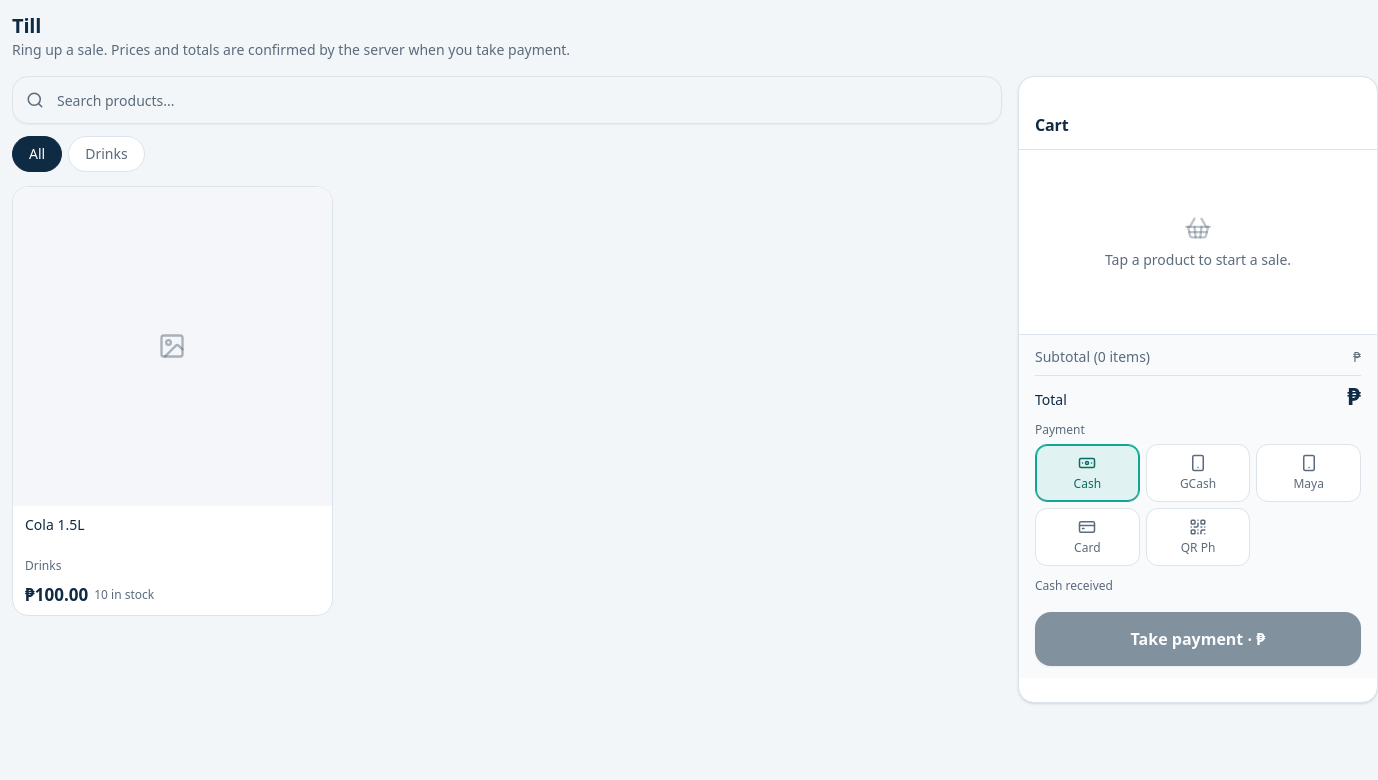
Test: online payments › asks for neither a reference nor cash received
Step 1. Click the button with aria-label "Add Cola 1.5L" → click(172, 401), box [12, 186, 333, 616]
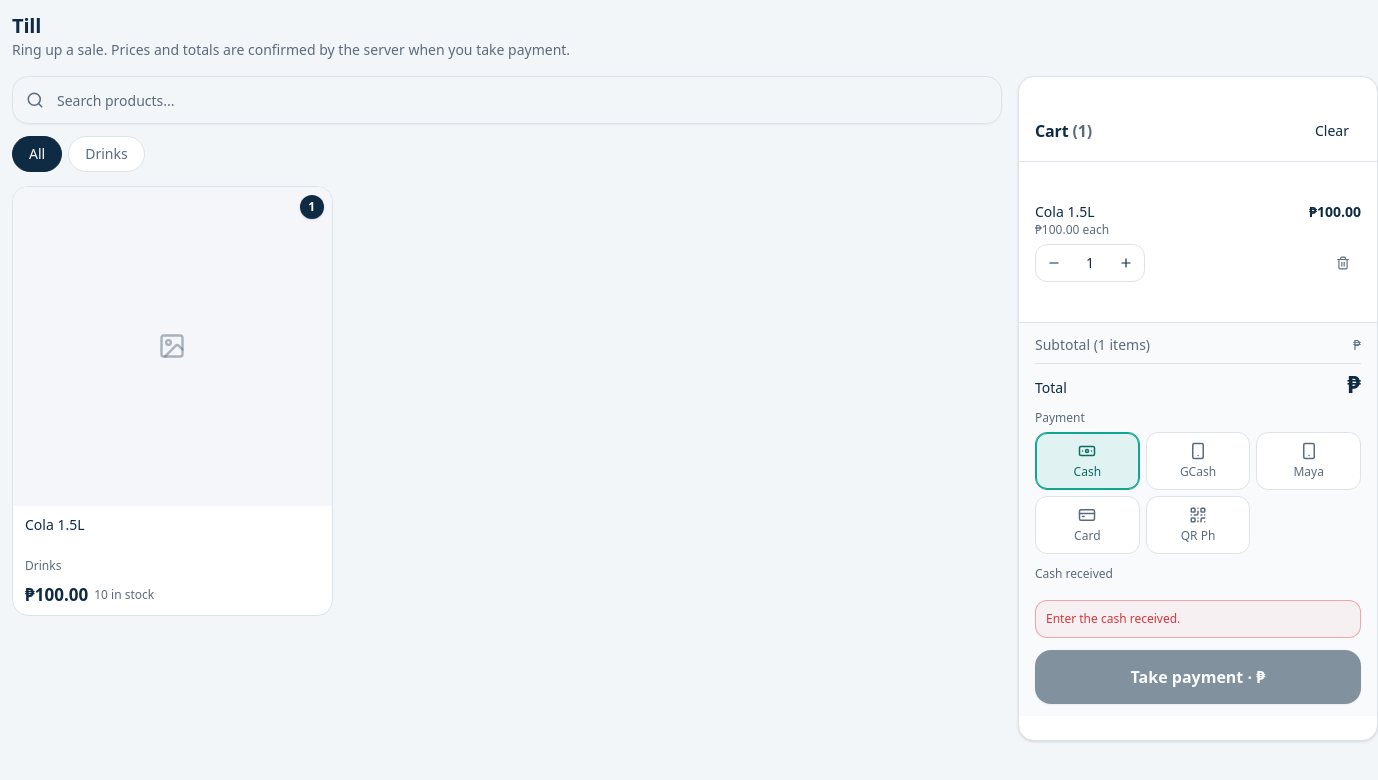
Step 2. Click the radio button labelled "Card" → click(1087, 525), box [1035, 496, 1140, 554]
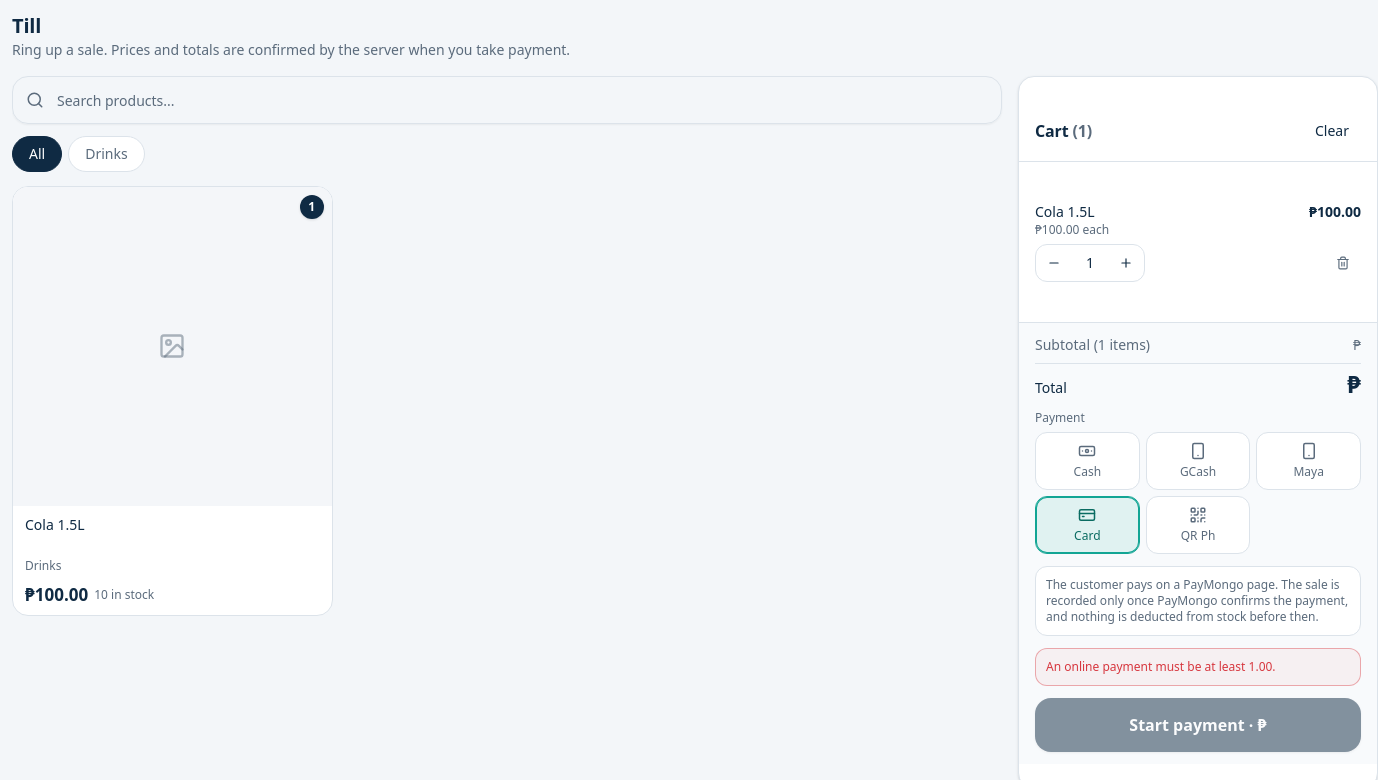
expect the label labelled "Cash received" is gone: met
